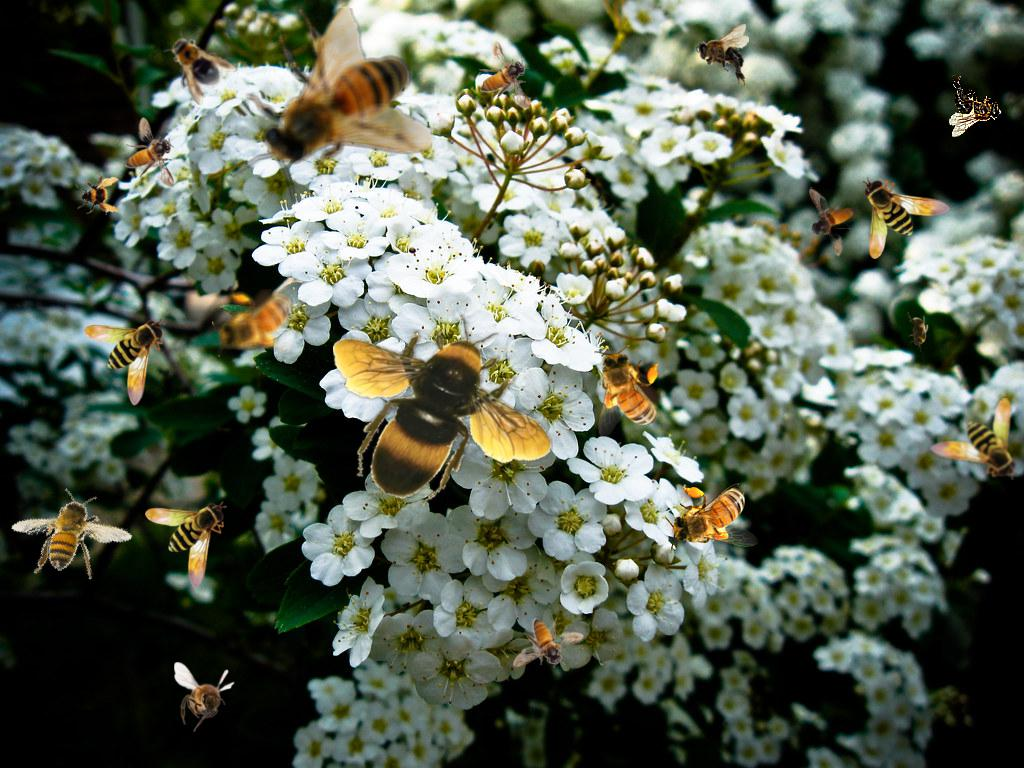Bee: (333, 315, 553, 506), (230, 6, 434, 205), (4, 472, 143, 600), (152, 21, 238, 107), (930, 398, 1018, 480), (862, 177, 950, 259), (84, 318, 166, 406), (145, 501, 227, 589), (665, 483, 758, 551), (594, 345, 662, 438), (212, 289, 305, 357), (174, 662, 235, 732), (476, 38, 532, 113), (513, 618, 584, 668), (125, 117, 175, 188), (807, 187, 857, 258), (949, 75, 1002, 137), (696, 24, 749, 86), (73, 169, 123, 219), (907, 312, 929, 352)
